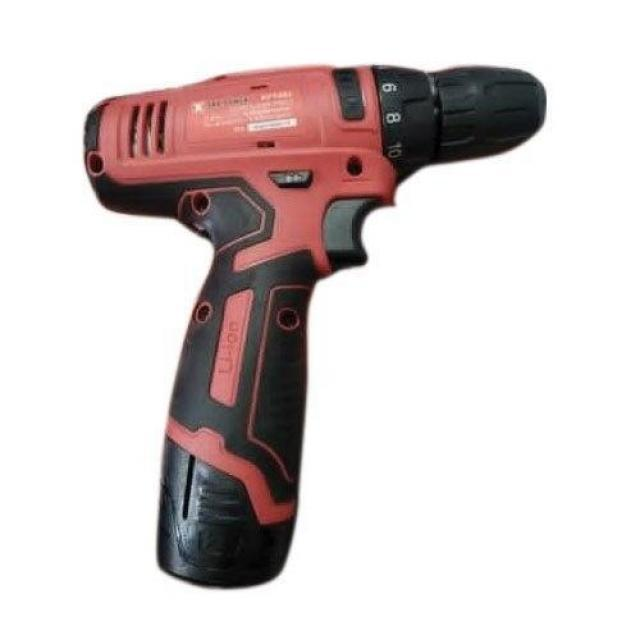drill: (83, 62, 547, 590)
